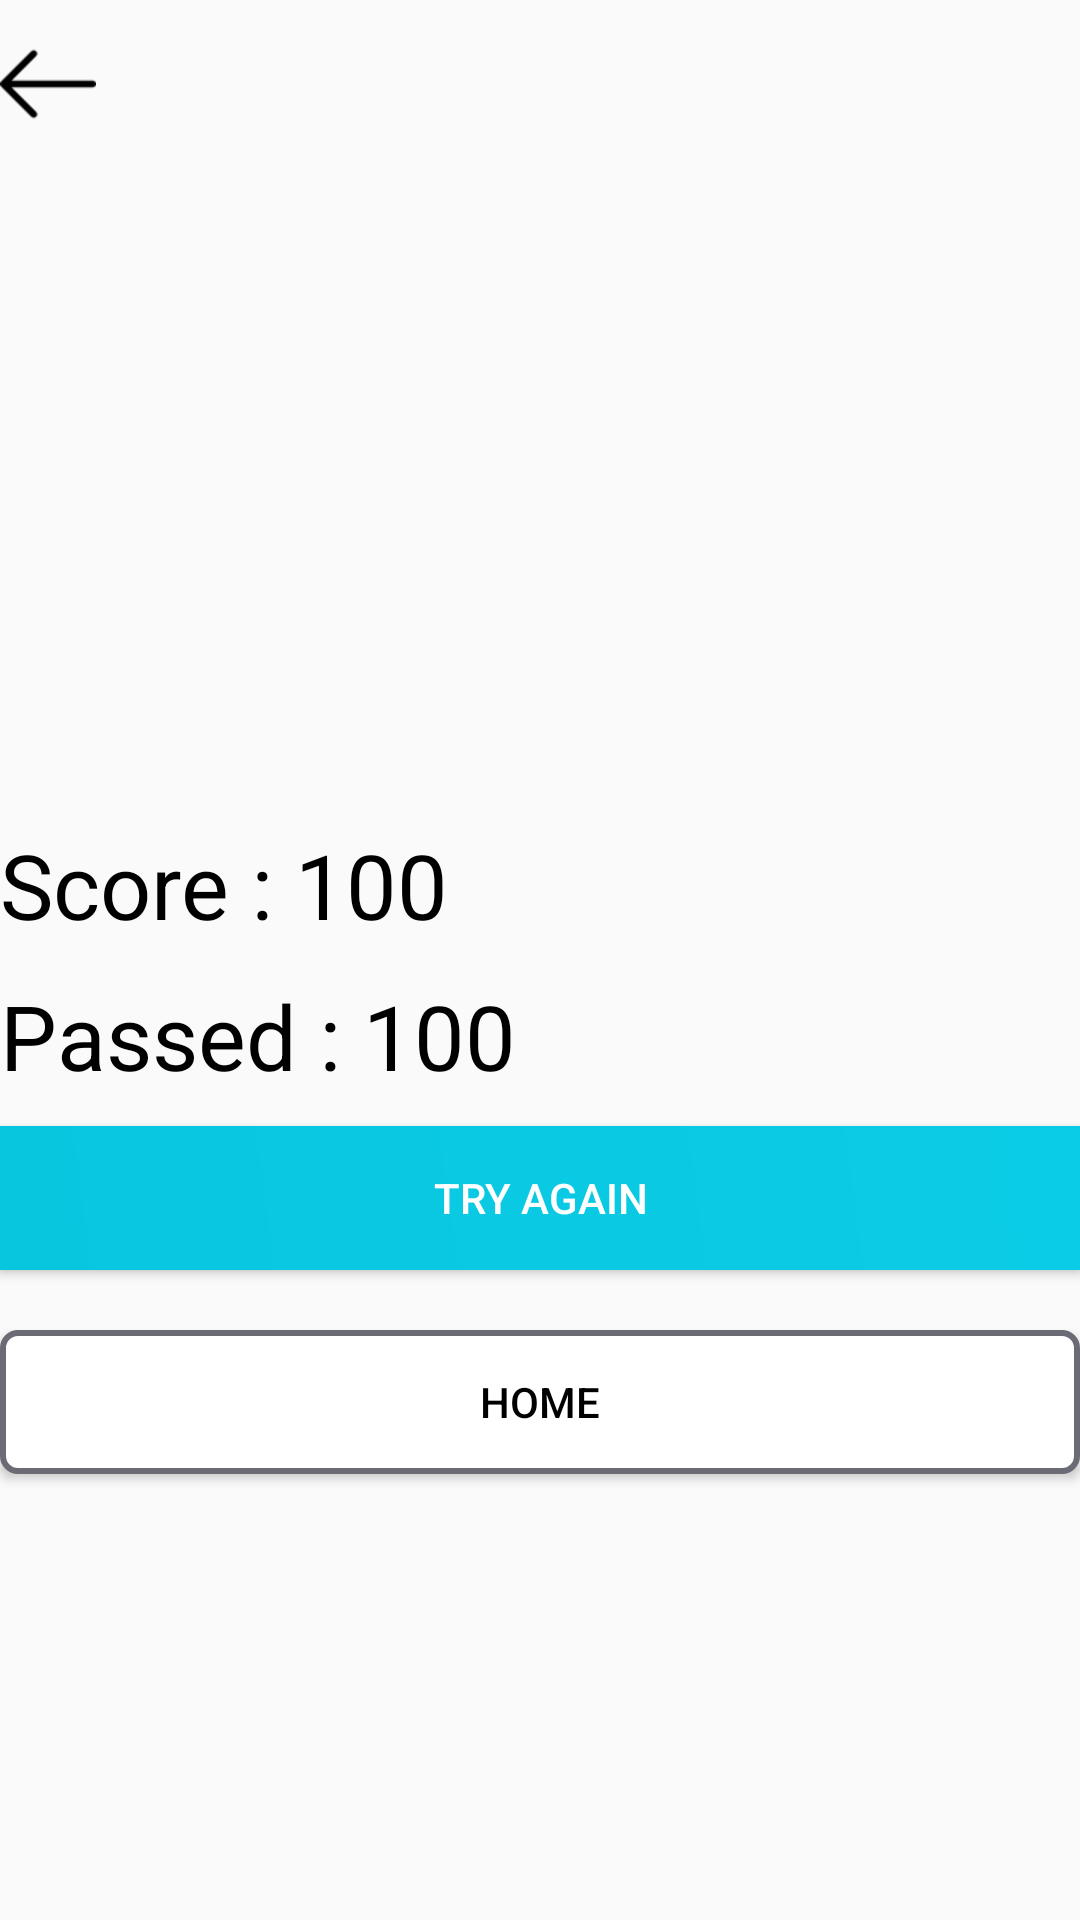

Icon bounding boxes for this 1080 x 1920 phone screenshot, format (x1, y1, x2, y2):
left arrow: (0, 49, 96, 119)
